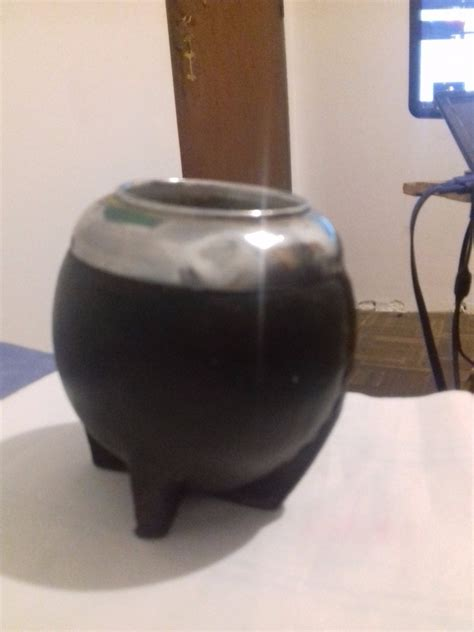cuero: (44, 249, 357, 542)
